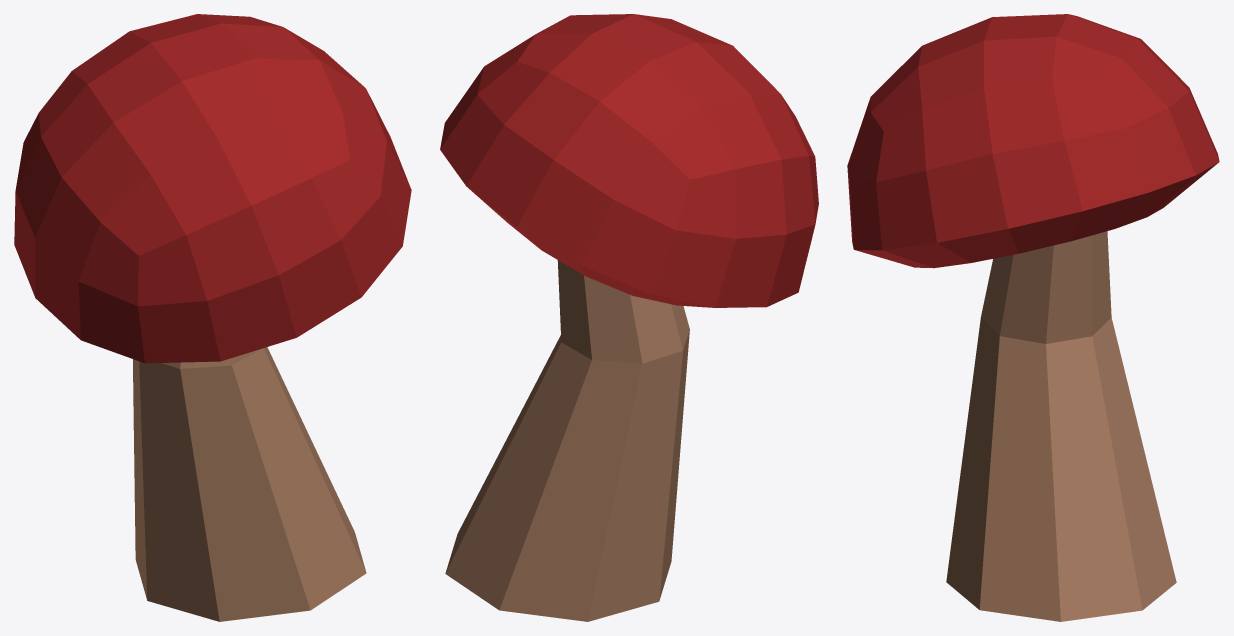
Rendered from mesh_mushroom_01_red.fbx.
The picture shows the model from 3 angles, left to right: view 1: azimuth 30°, elevation 25°; view 2: azimuth 150°, elevation 25°; view 3: azimuth 270°, elevation 25°; orthographic projection. The views are drawn at different scales.
Visible parts, largest first — view 1: mesh_mushroom_01_red_LOD0; view 2: mesh_mushroom_01_red_LOD0; view 3: mesh_mushroom_01_red_LOD0.
Boxes of the visible parts, x1,y1,x2,y2 form: mesh_mushroom_01_red_LOD0: [14, 14, 411, 621]; mesh_mushroom_01_red_LOD0: [440, 14, 818, 621]; mesh_mushroom_01_red_LOD0: [847, 14, 1219, 621].
Size of what is drawn, in the model's own units: 0.2017 by 0.322 by 0.2013.
